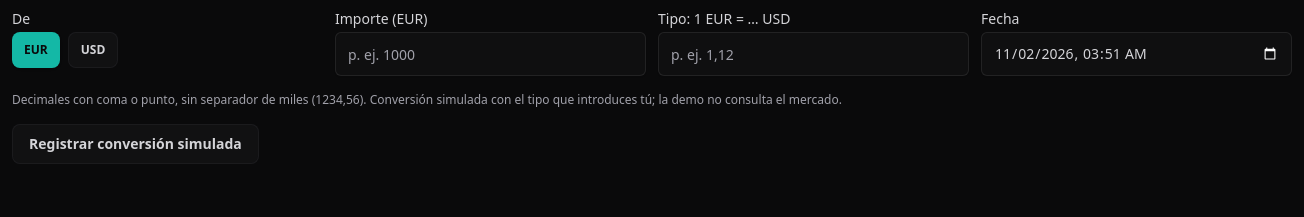
Test: FxTicket (conversión EUR ⇄ USD simulada) › un rechazo confirmado se muestra con su motivo
In the field labelled "Importe (EUR)": (490, 54) [335,32,646,76], type "1000"
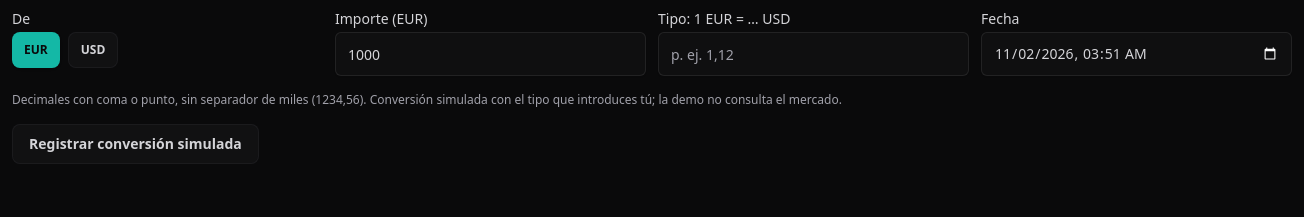
In the field labelled "Tipo: 1 EUR = … USD": (814, 54) [658,32,969,76], type "1,12"
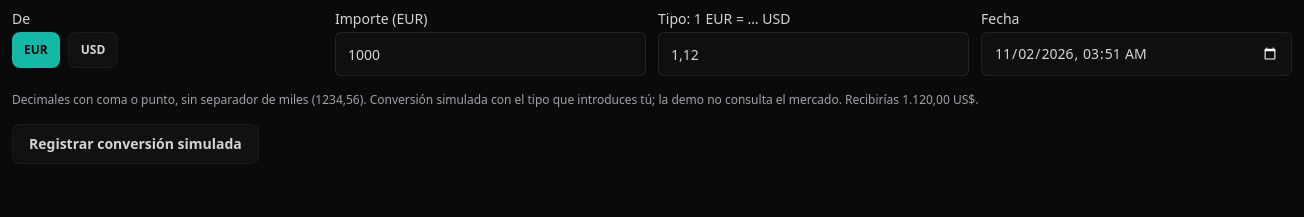
Submit the form named "Conversión de divisa simulada"
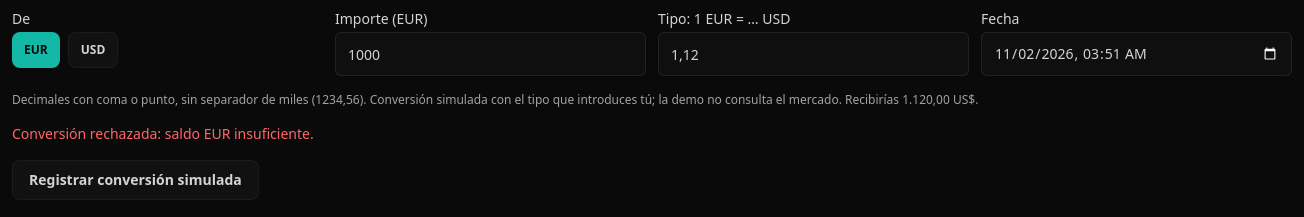
Result: the message reads "Conversión rechazada: saldo EUR insuficiente." at [12,124,314,143]
